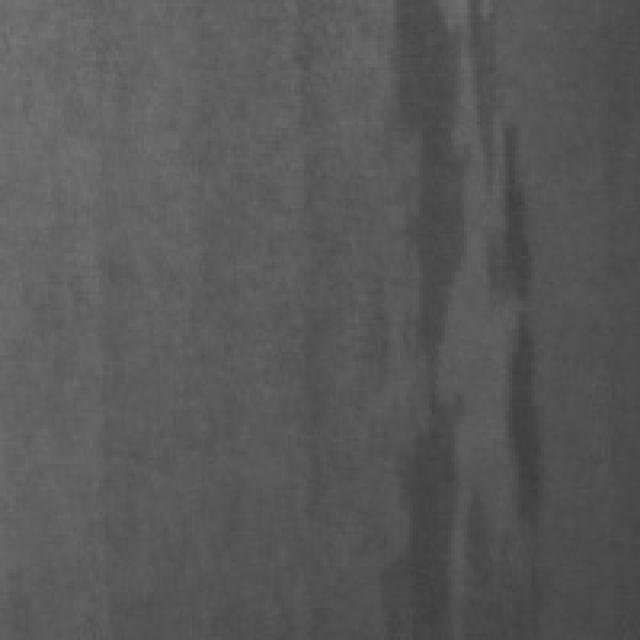inclusion: (381, 0, 557, 634)
